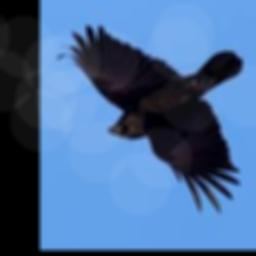Crow: (56, 25, 243, 214)
